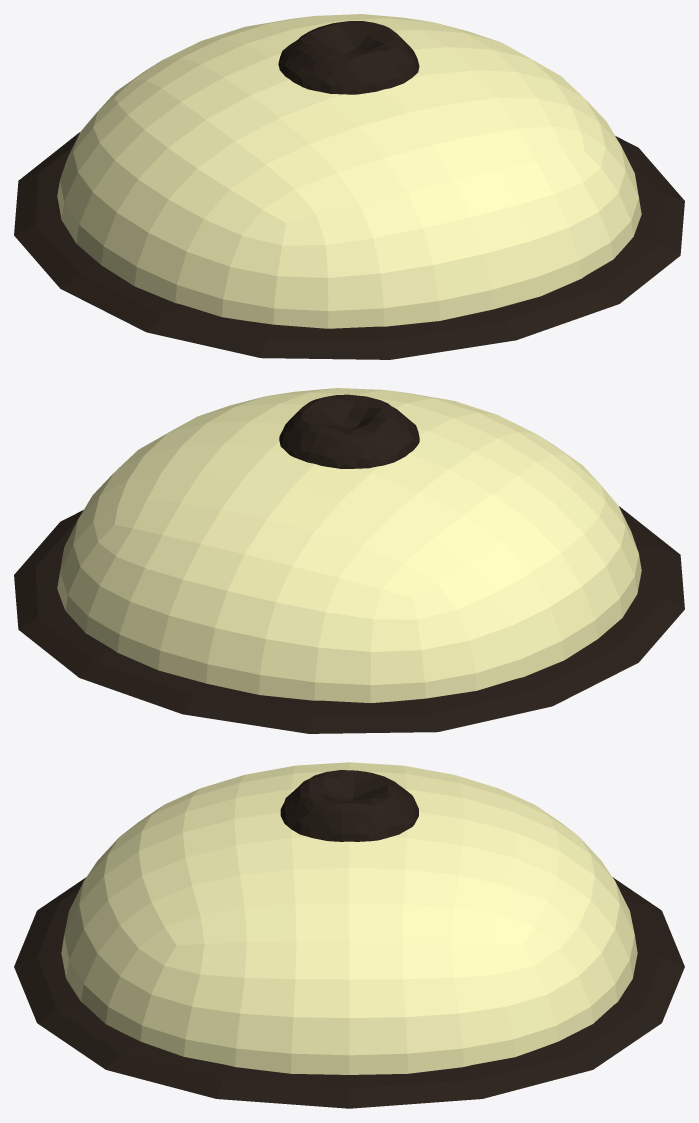
Rendered from light.gltf.
The picture shows the model from 3 angles, top to bottom: view 1: azimuth 30°, elevation 25°; view 2: azimuth 150°, elevation 25°; view 3: azimuth 270°, elevation 25°; orthographic projection.
Visible parts, largest first — view 1: Cube, Cube.002, Cube.001; view 2: Cube, Cube.002, Cube.001; view 3: Cube, Cube.002, Cube.001.
Boxes of the visible parts, x1,y1,x2,y2 form: Cube: [57, 14, 641, 328]; Cube.002: [14, 132, 684, 359]; Cube.001: [278, 21, 419, 94]; Cube: [57, 388, 641, 702]; Cube.002: [14, 506, 684, 733]; Cube.001: [279, 394, 419, 468]; Cube: [61, 762, 637, 1074]; Cube.002: [14, 877, 684, 1108]; Cube.001: [280, 770, 418, 841].
Bounding box in the file's own units: 1.94 × 0.5778 × 1.94.
